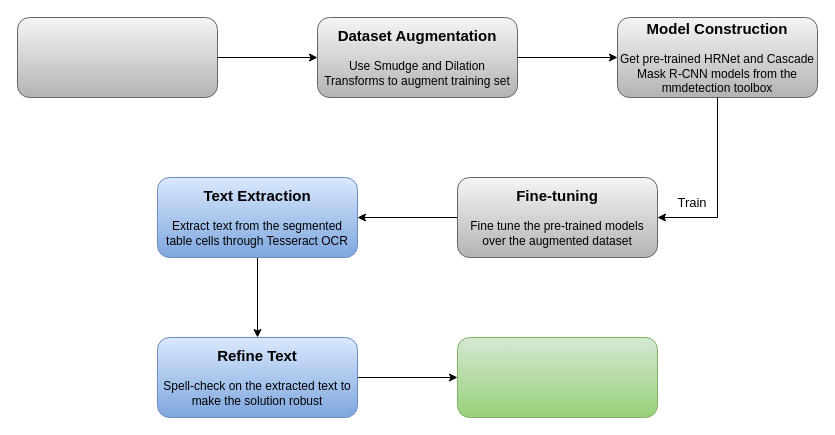
Some shapes in this 835 by 435 pixel diagram are drawn without their labels. The centre of each missing label's shape, as x and y in pixels:
"Dataset Preparation Combine ICDAR-13, ICDAR-19, Marmot and a custom-made dataset" goes at point 117,57.
"Generate xlsx Fill the Excel cells by placing the text under respective columns" goes at point 557,377.
